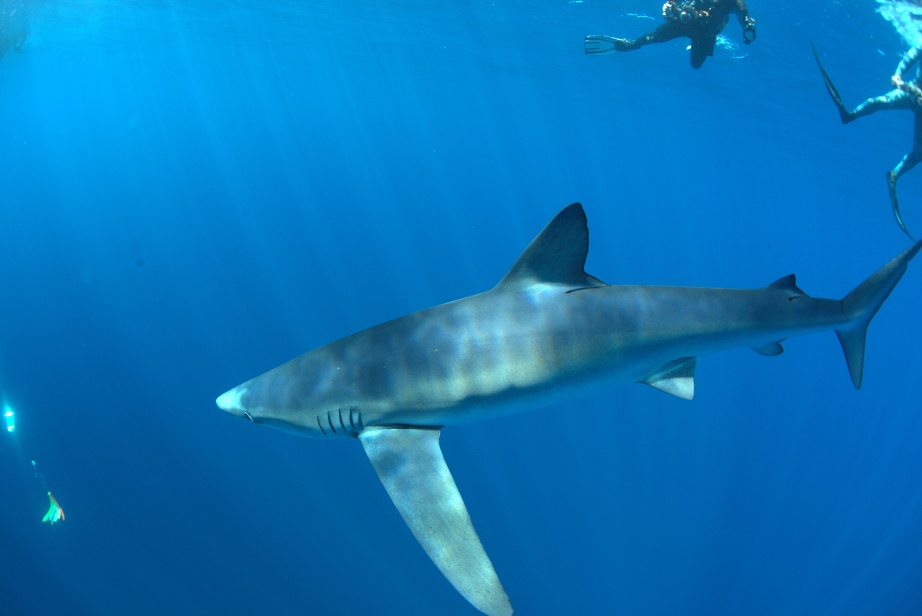Azul: (213, 191, 911, 612)
